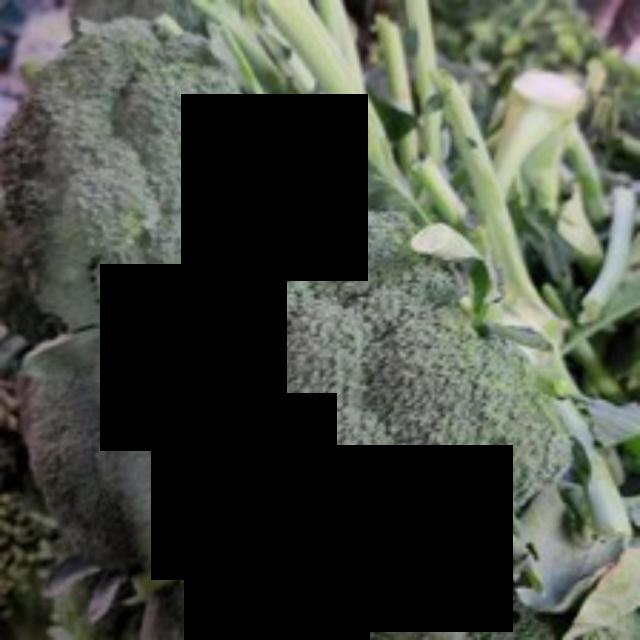broccoli: (194, 163, 588, 637)
